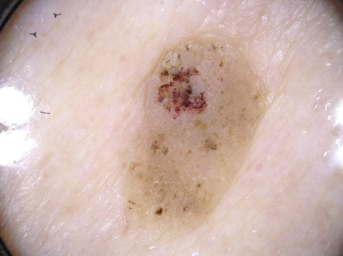seborrheic keratosis: (101, 30, 282, 246)
